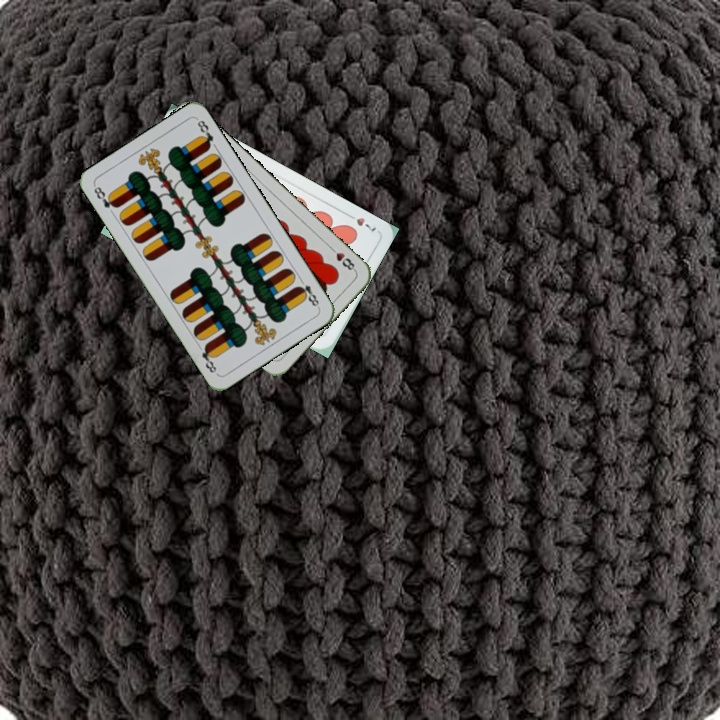E8: (293, 274, 322, 310), (90, 182, 121, 211)
H7: (342, 209, 379, 234)
H8: (325, 243, 358, 274)
